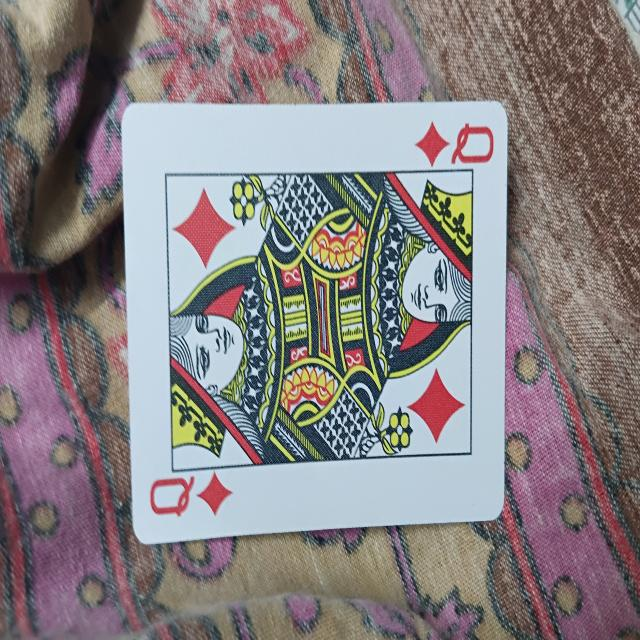QD: (128, 98, 510, 548)
